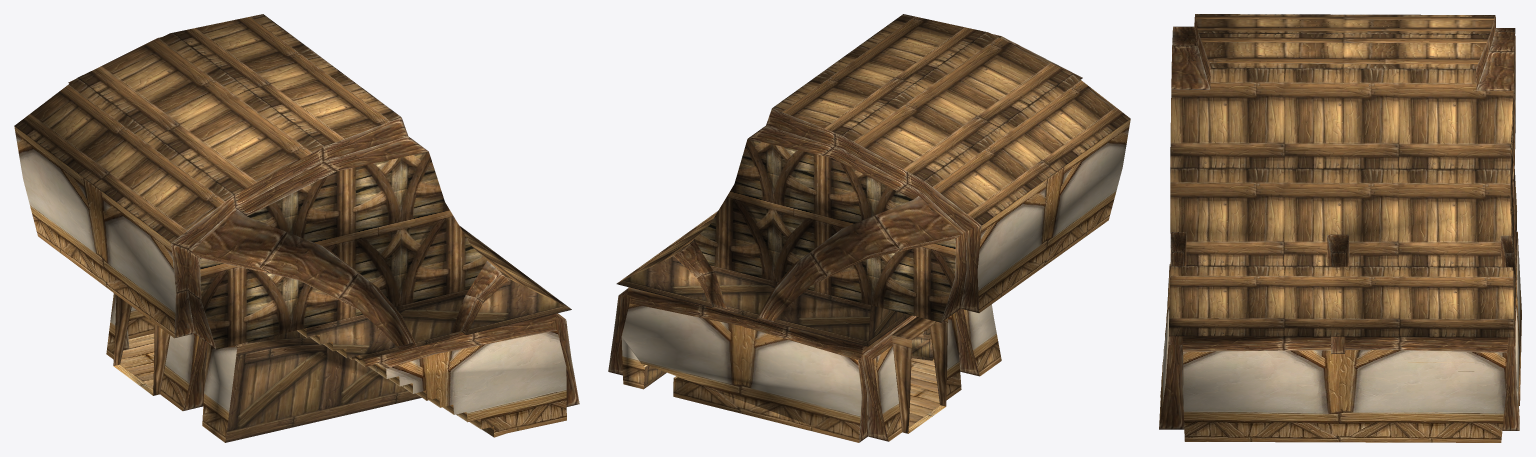
The model's file is stormwind_221.fbx.
3 renders of one model, left to right at view 1: azimuth 30°, elevation 25°; view 2: azimuth 150°, elevation 25°; view 3: azimuth 270°, elevation 25°, orthographic. The views are drawn at different scales.
Visible parts, largest first — view 1: stormwind_221_55, stormwind_221_48, stormwind_221_49, stormwind_221_53, stormwind_221_56, stormwind_221_51; view 2: stormwind_221_55, stormwind_221_48, stormwind_221_49, stormwind_221_53, stormwind_221_56, stormwind_221_51, stormwind_221_59; view 3: stormwind_221_55, stormwind_221_48, stormwind_221_53, stormwind_221_49, stormwind_221_56.
Boxes of the visible parts, left/top/right/bottom form: stormwind_221_55: left=14, top=14, right=571, bottom=309; stormwind_221_48: left=14, top=126, right=566, bottom=442; stormwind_221_49: left=113, top=151, right=487, bottom=395; stormwind_221_53: left=68, top=37, right=579, bottom=437; stormwind_221_56: left=225, top=279, right=571, bottom=442; stormwind_221_51: left=120, top=333, right=154, bottom=388; stormwind_221_55: left=617, top=14, right=1130, bottom=283; stormwind_221_48: left=621, top=119, right=1130, bottom=442; stormwind_221_49: left=694, top=139, right=955, bottom=433; stormwind_221_53: left=608, top=34, right=1082, bottom=442; stormwind_221_56: left=617, top=256, right=911, bottom=388; stormwind_221_51: left=908, top=358, right=939, bottom=427; stormwind_221_59: left=911, top=328, right=933, bottom=360; stormwind_221_55: left=1169, top=14, right=1514, bottom=337; stormwind_221_48: left=1159, top=232, right=1521, bottom=442; stormwind_221_53: left=1159, top=15, right=1519, bottom=430; stormwind_221_49: left=1510, top=29, right=1515, bottom=246; stormwind_221_56: left=1169, top=169, right=1519, bottom=405.
Bounding box in the file's own units: 18.16 × 13.58 × 14.95.
